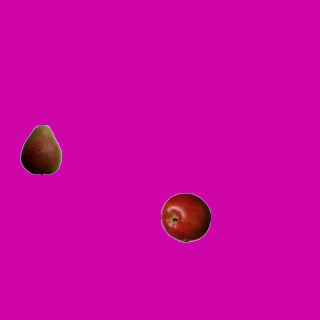Apple Braeburn: (160, 192, 210, 242)
Pear Forelle: (15, 124, 65, 174)
